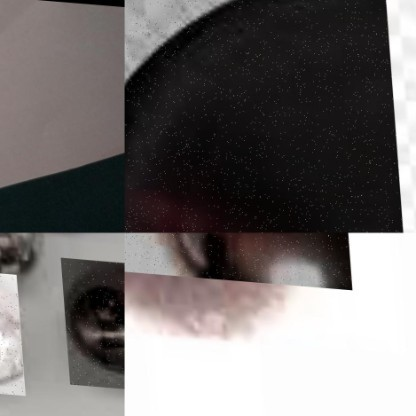ironball: (124, 0, 403, 232), (124, 232, 348, 286), (59, 255, 124, 388), (0, 267, 22, 394), (0, 232, 46, 283)
